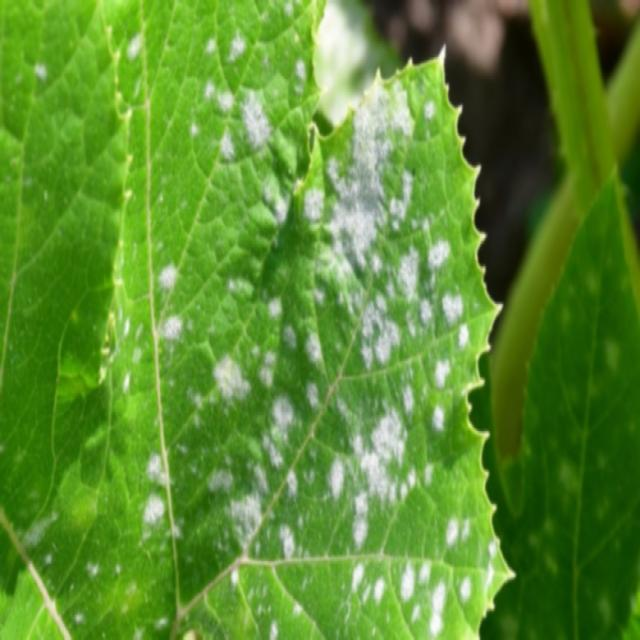Powdery Mildew: (198, 19, 506, 605)
